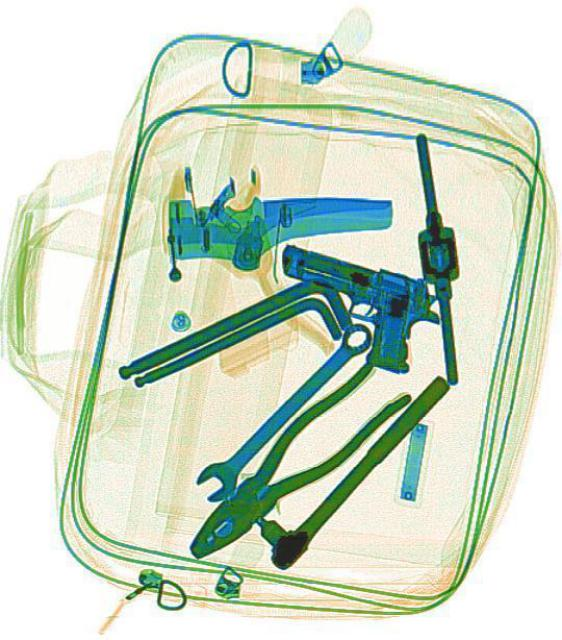Gun: (258, 240, 447, 380)
Pliers: (169, 350, 411, 578)
Wrench: (187, 312, 377, 508)
